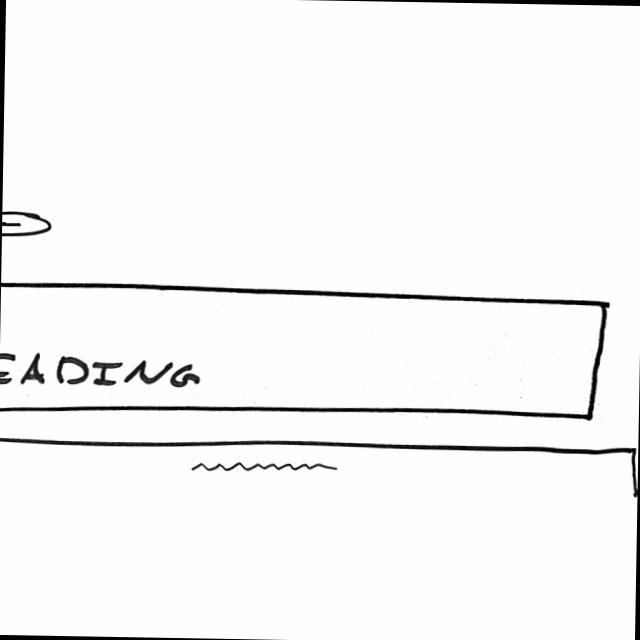container: (1, 282, 607, 423)
icon-button: (3, 211, 54, 238)
label: (1, 351, 203, 390)
text: (190, 462, 342, 476)
